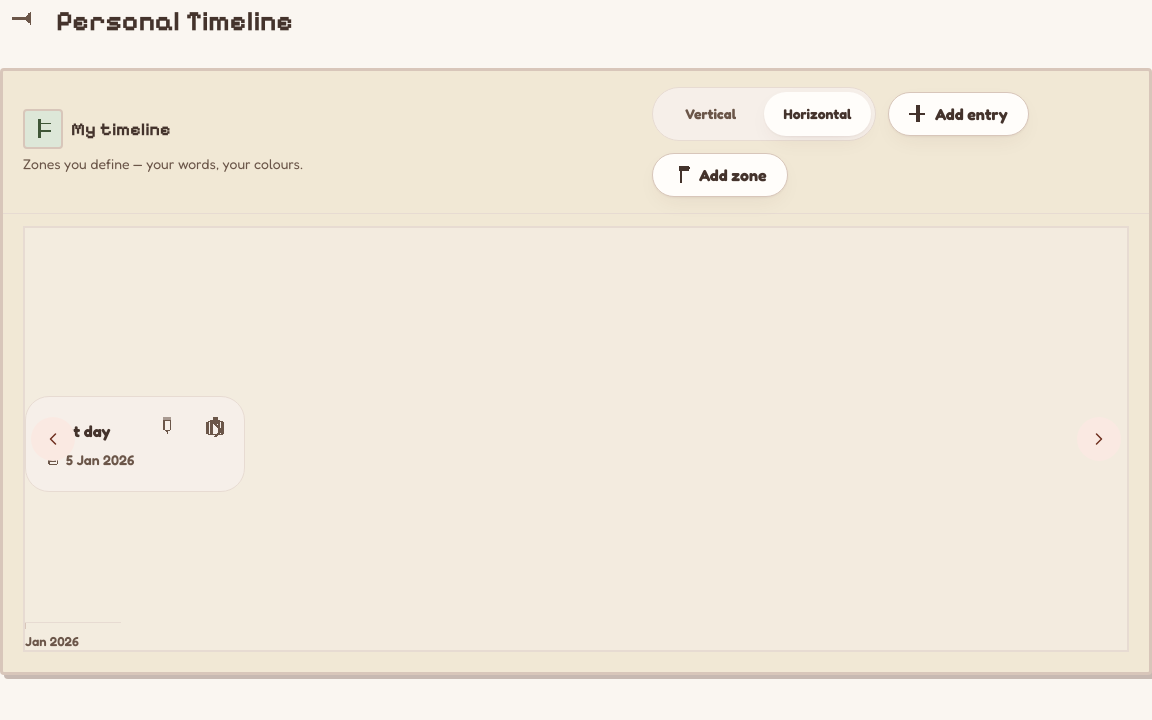
TimelineScreen › opens a read-only view when a vertical card is clicked for details
Click the button named "View details for \"First day\"" at (78, 431), box [46,417,224,471]
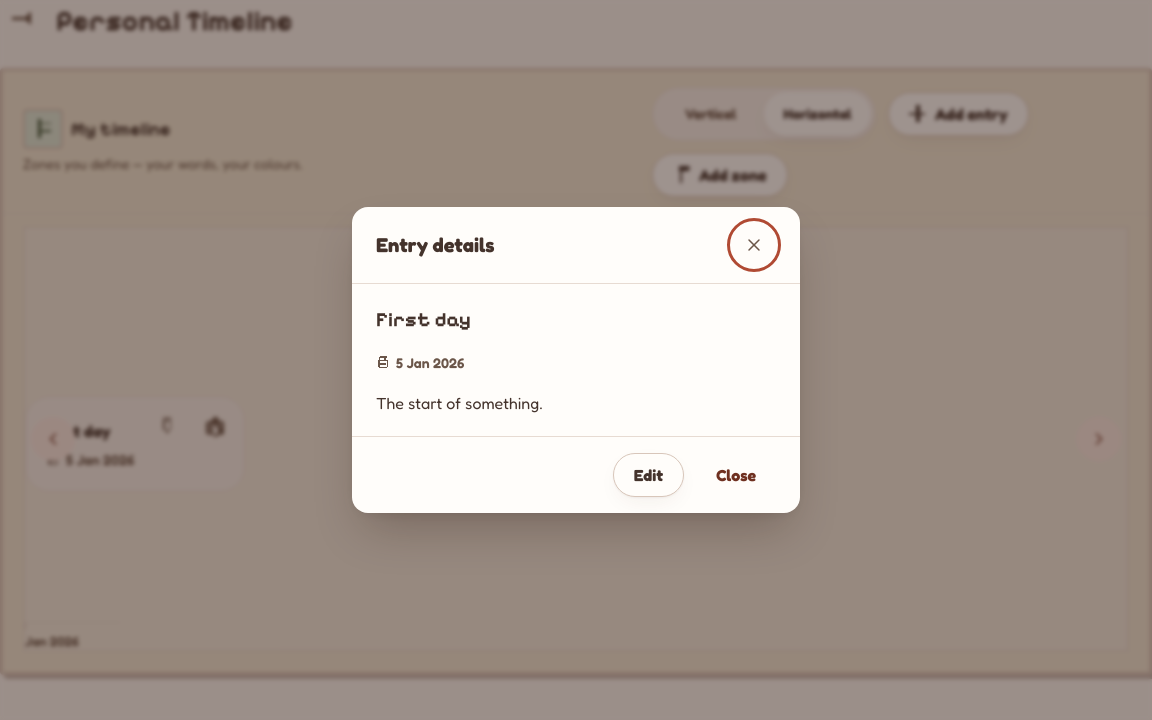
Check: the heading "First day" is shown, box [376,308,471,332]
Check: the text "The start of something." is shown, box [376,393,543,413]
